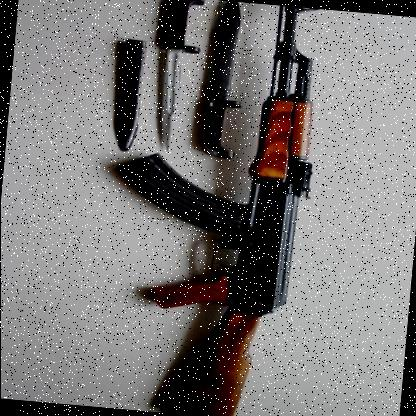rifle: (96, 0, 354, 416)
